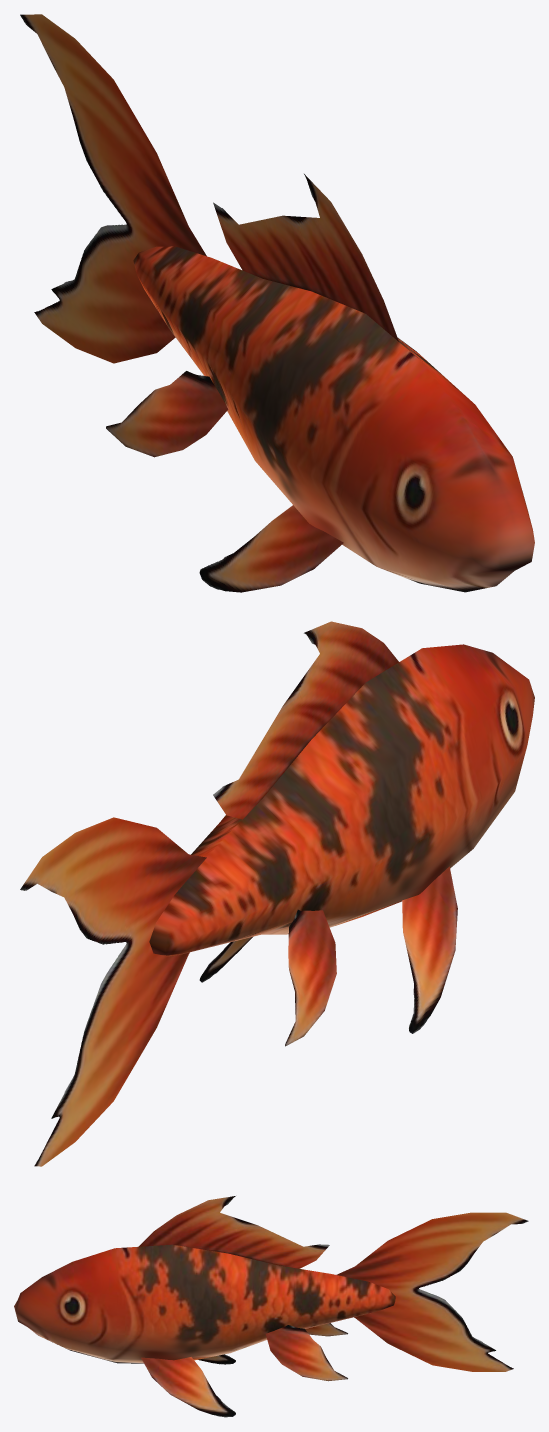
The model's file is Coalfish.fbx.
The picture shows the model from 3 angles, top to bottom: view 1: azimuth 30°, elevation 25°; view 2: azimuth 150°, elevation 25°; view 3: azimuth 270°, elevation 25°; orthographic projection. The views are drawn at different scales.
Parts seen in each view (by area): view 1: Sphere.002; view 2: Sphere.002; view 3: Sphere.002.
Boxes of the visible parts, left/top/right/bottom form: Sphere.002: left=20, top=14, right=534, bottom=592; Sphere.002: left=20, top=621, right=534, bottom=1166; Sphere.002: left=14, top=1196, right=528, bottom=1417.
Size of the model in its own units: 71.21 by 123 by 296.
Materials: 1 (1 with a texture image).
